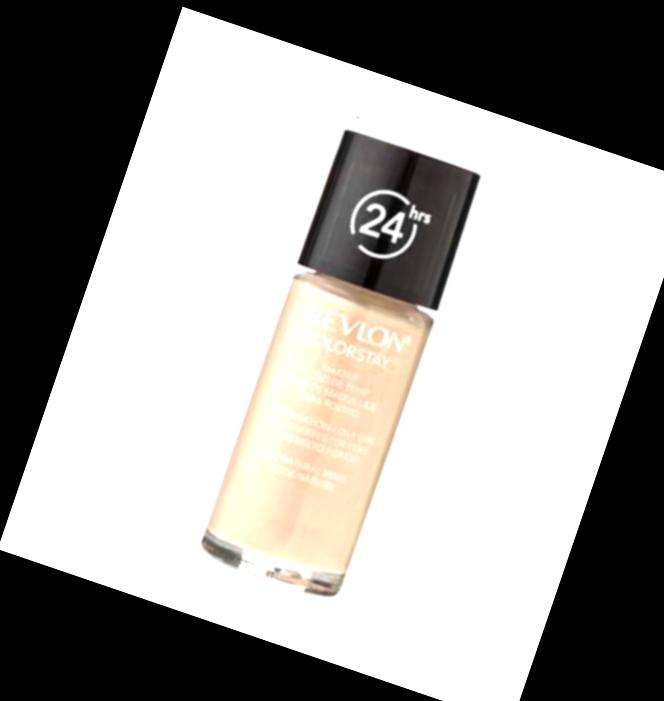cosmetic: (195, 127, 482, 600)
